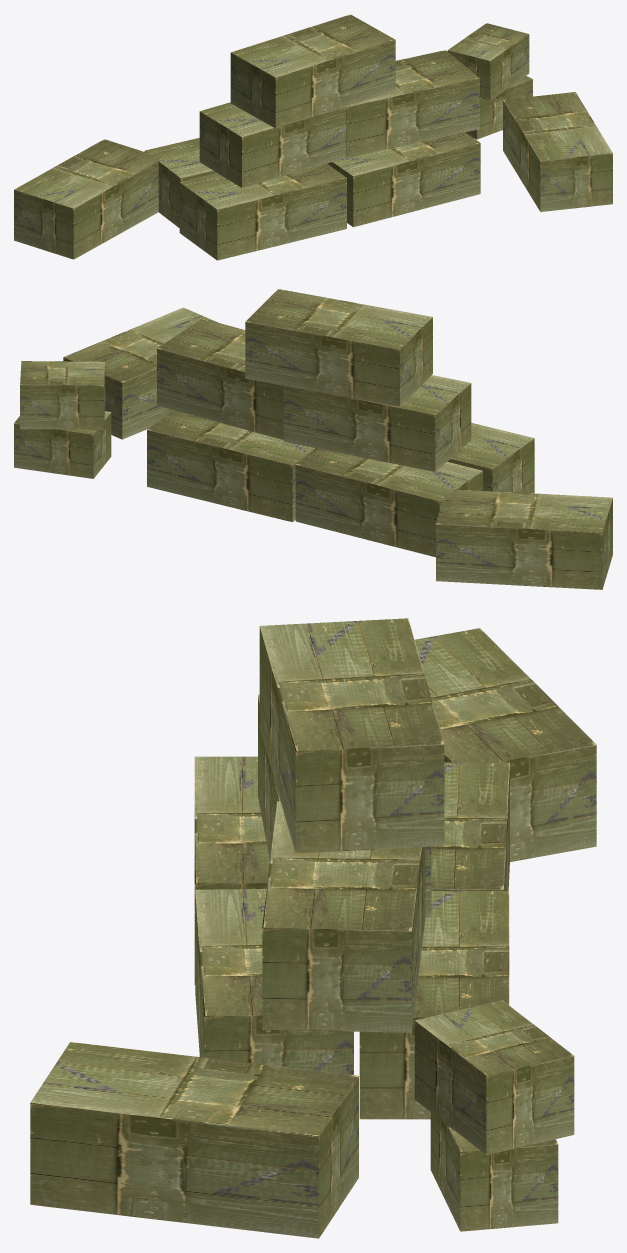
Rendered from ammo_crates.glb.
3 views of the same model, one above another, from view 1: azimuth 30°, elevation 25°; view 2: azimuth 150°, elevation 25°; view 3: azimuth 270°, elevation 25° (orthographic). The views are drawn at different scales.
Parts seen in each view (by area): view 1: crate.006, crate.008, crate, crate.007, crate.005, crate.001, crate.004, crate.010, crate.002, crate.009; view 2: crate.006, crate.008, crate.002, crate.004, crate.003, crate.005, crate.007, crate.010, crate.009, crate; view 3: crate.007, crate.006, crate.005, crate.008, crate.010, crate.003, crate.001, crate.009, crate, crate.002, crate.004.
Part boxes in pixels (box(x1,y1,x2,y2)): crate.006: box(230, 14, 395, 128); crate.008: box(14, 139, 163, 259); crate: box(179, 163, 346, 260); crate.007: box(503, 92, 612, 211); crate.005: box(346, 50, 479, 157); crate.001: box(327, 132, 480, 227); crate.004: box(199, 101, 363, 187); crate.010: box(447, 23, 529, 100); crate.002: box(144, 137, 216, 227); crate.009: box(465, 76, 532, 139); crate.006: box(245, 289, 432, 406); crate.008: box(436, 489, 612, 589); crate.002: box(295, 448, 482, 557); crate.004: box(283, 375, 471, 471); crate.003: box(147, 410, 317, 522); crate.005: box(157, 318, 283, 439); crate.007: box(63, 307, 218, 439); crate.010: box(20, 361, 105, 429); crate.009: box(14, 411, 111, 478); crate: box(447, 423, 534, 493); crate.007: box(30, 1042, 358, 1238); crate.006: box(259, 618, 444, 853); crate.005: box(262, 801, 425, 1032); crate.008: box(414, 628, 596, 861); crate.010: box(414, 1000, 574, 1154); crate.003: box(359, 891, 509, 1119); crate.001: box(195, 889, 353, 1074); crate.009: box(430, 1112, 558, 1231); crate: box(194, 756, 269, 984); crate.002: box(431, 762, 509, 890); crate.004: box(258, 694, 431, 917).
Size of the model in its own units: 4.82 by 1.35 by 2.27.
1 material, 1 textured.
